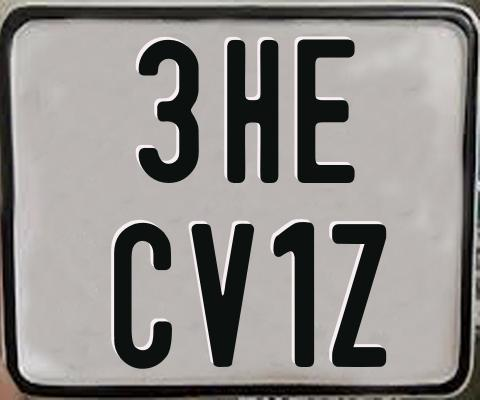1: (273, 221, 319, 367)
3: (136, 39, 202, 186)
C: (113, 222, 177, 369)
E: (295, 38, 357, 183)
H: (227, 39, 285, 185)
V: (191, 221, 257, 366)
Z: (331, 224, 385, 373)
